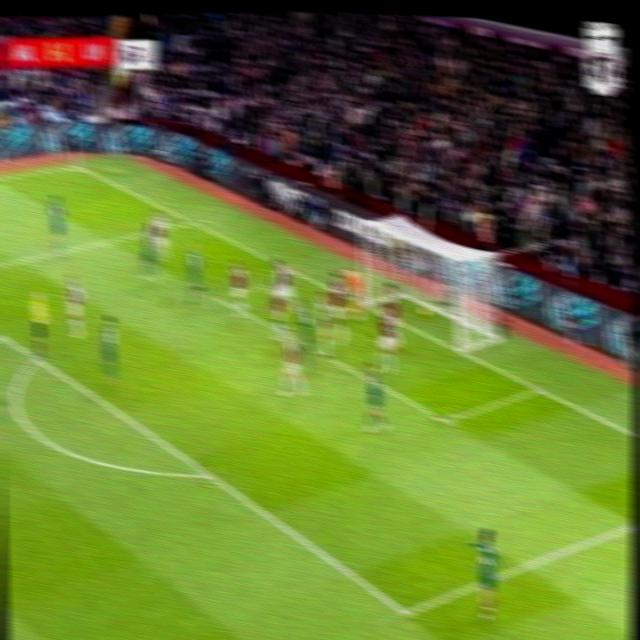bigarea_bottom_inner: (389, 592, 420, 632)
bigarea_top_outter: (183, 211, 202, 233)
bottom_arc_area_intersection: (194, 458, 223, 489)
corner: (63, 157, 88, 175)
smallarea_bottom_inner: (430, 401, 460, 435)
smallarea_bottom_outter: (525, 376, 548, 399)
smallarea_top_inner: (205, 284, 228, 310)
smallarea_top_outter: (289, 263, 313, 287)
top_arc_area_intersection: (24, 345, 49, 372)
